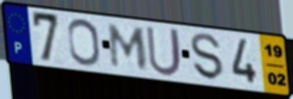4: (230, 38, 260, 87)
7: (30, 9, 62, 65)
M: (108, 22, 150, 72)
O: (66, 17, 103, 68)
S: (189, 32, 226, 83)
U: (144, 24, 184, 79)
